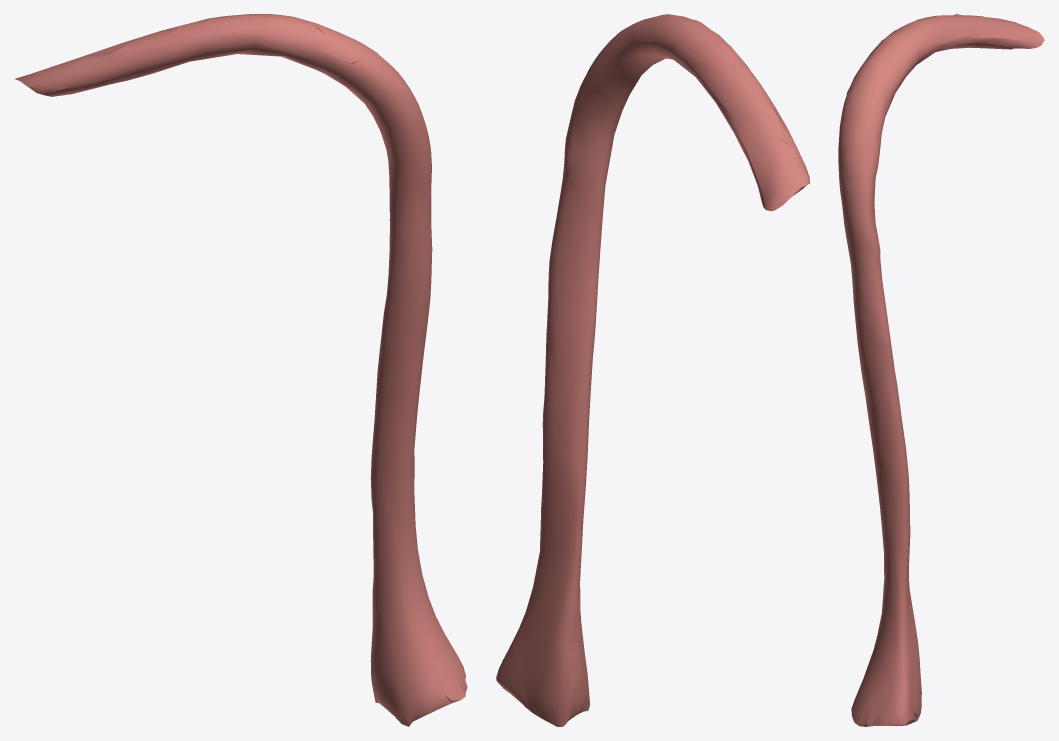
The model's file is fma65153_mm1817m.glb.
3 renders of one model, left to right at view 1: azimuth 30°, elevation 25°; view 2: azimuth 150°, elevation 25°; view 3: azimuth 270°, elevation 25°, orthographic. The views are drawn at different scales.
Visible parts, largest first — view 1: FMA65153_MM1817M; view 2: FMA65153_MM1817M; view 3: FMA65153_MM1817M.
Part boxes in pixels (bbox=[...]): FMA65153_MM1817M: bbox=[15, 14, 467, 726]; FMA65153_MM1817M: bbox=[496, 14, 809, 726]; FMA65153_MM1817M: bbox=[838, 14, 1044, 726].
Bounding box in the file's own units: 0.0505 × 0.0944 × 0.0279.
